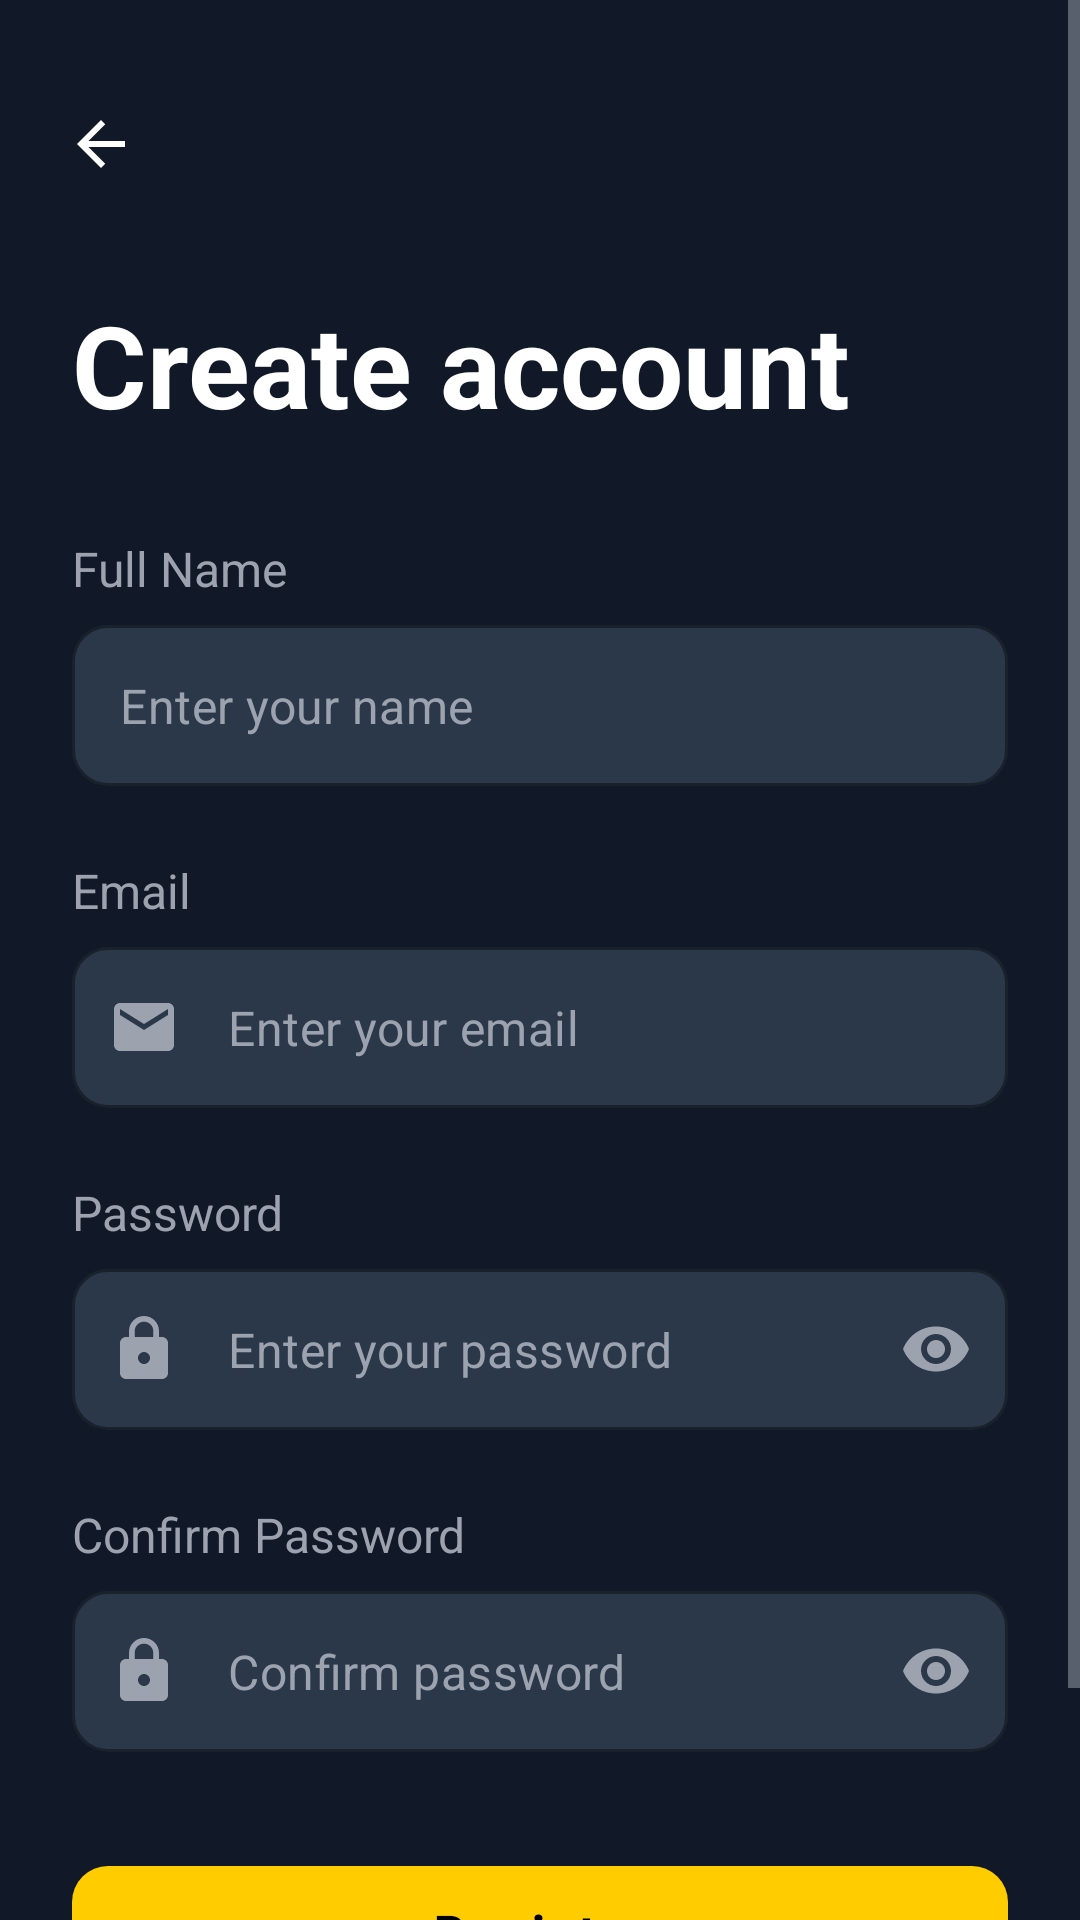

Icons on this 1080×1920 Android screen, each with the point to tap as point (x, y):
Go back: point (101, 144)
